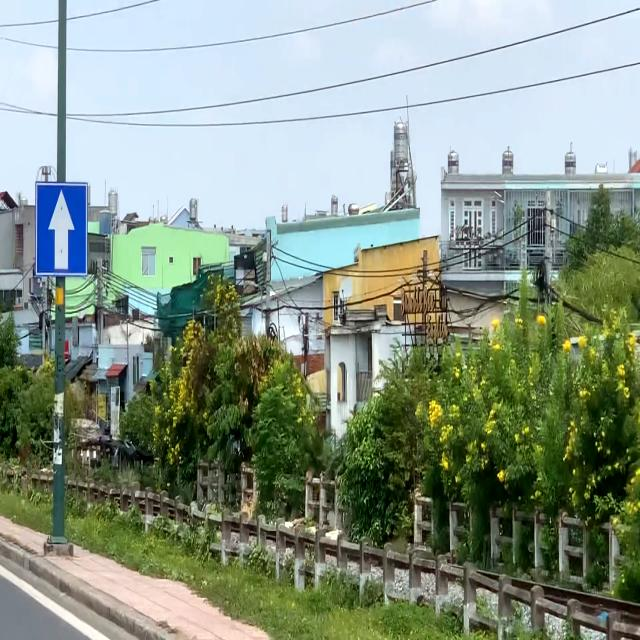R.407a: (34, 177, 89, 284)
